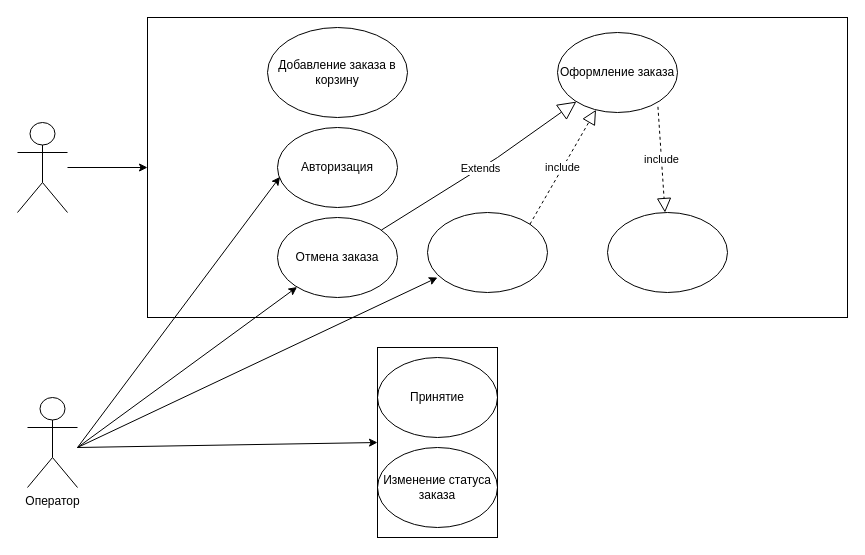
The diagram is 865 pixels wide and 555 high, and some of its shapes have lost their labels. Each missing label, with the centre of its shape:
Клиент: point 42,167
Оплата заказа: point 667,252
Просмотр меню: point 487,252
